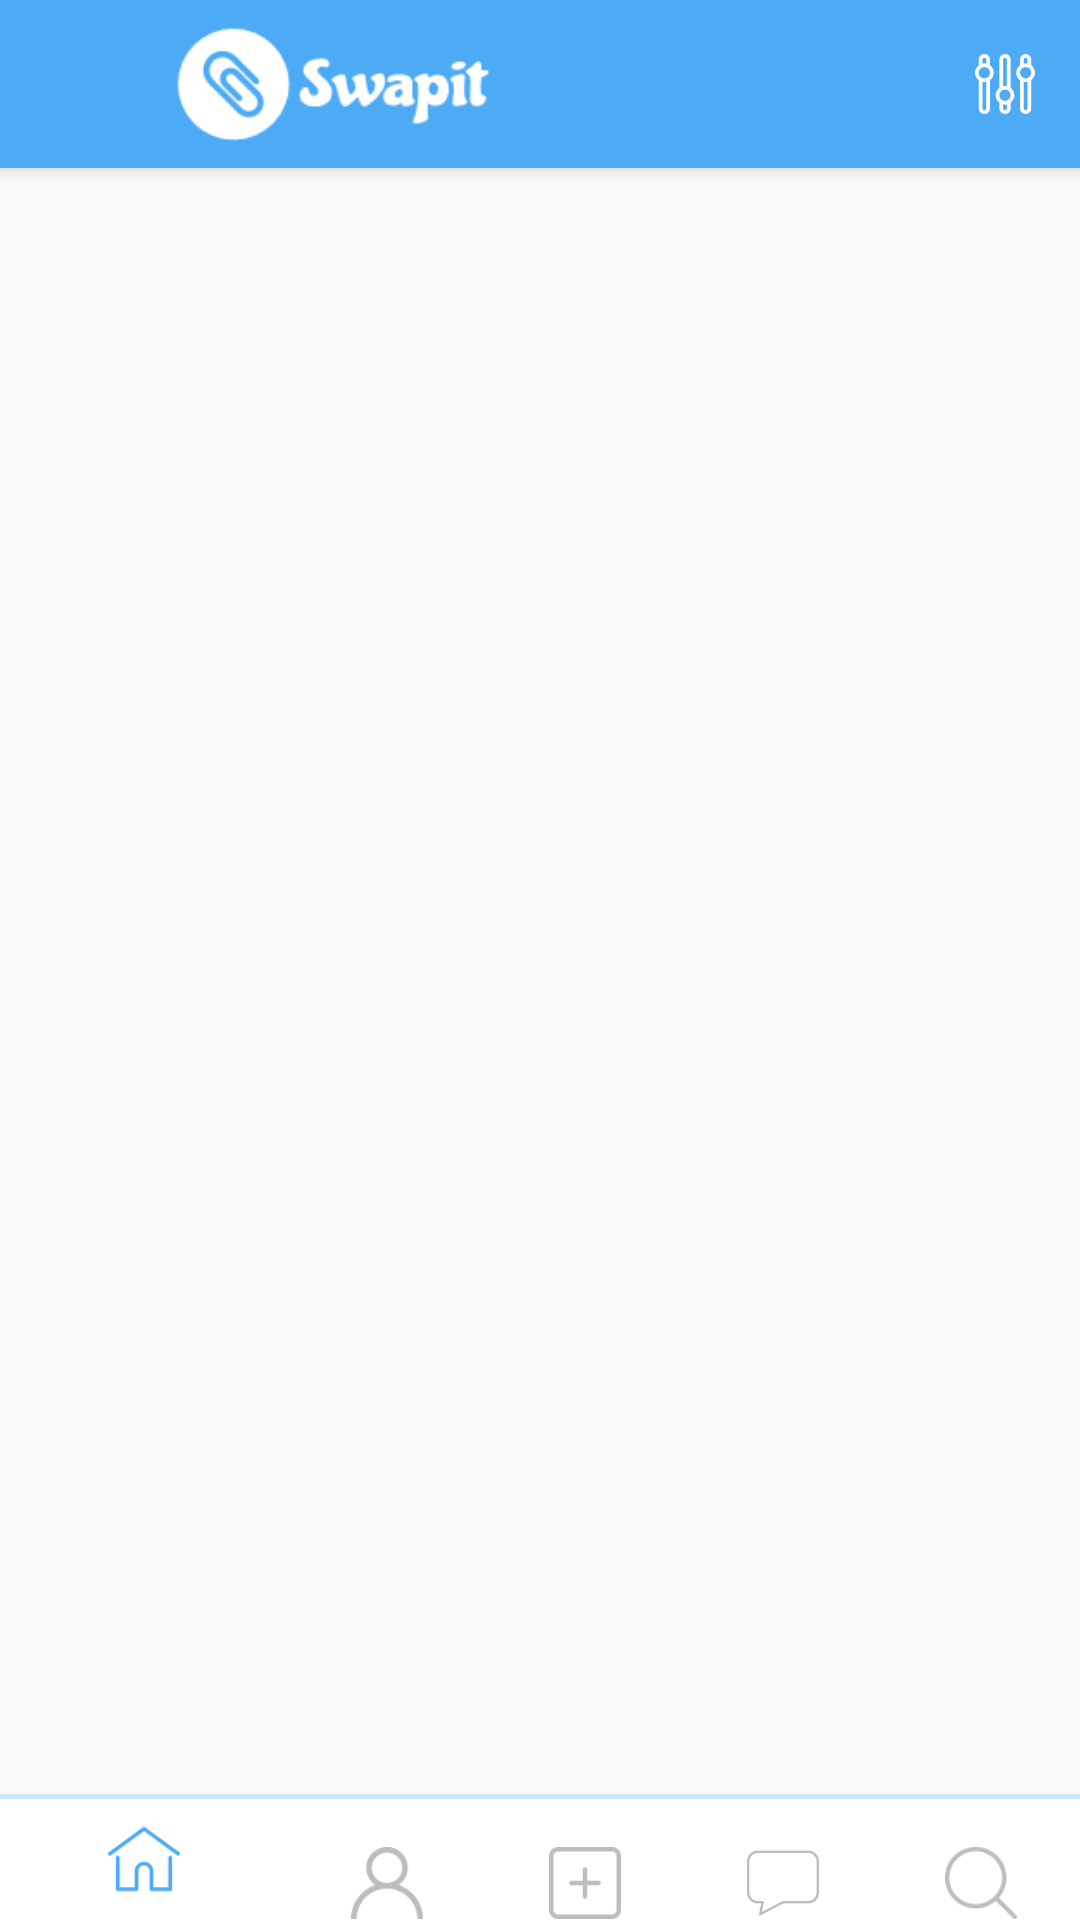

Where icons sit on this 1080w x 1920h app screen, as detection(x1, y1, x2, y2):
parameters: detection(975, 54, 1035, 114)
